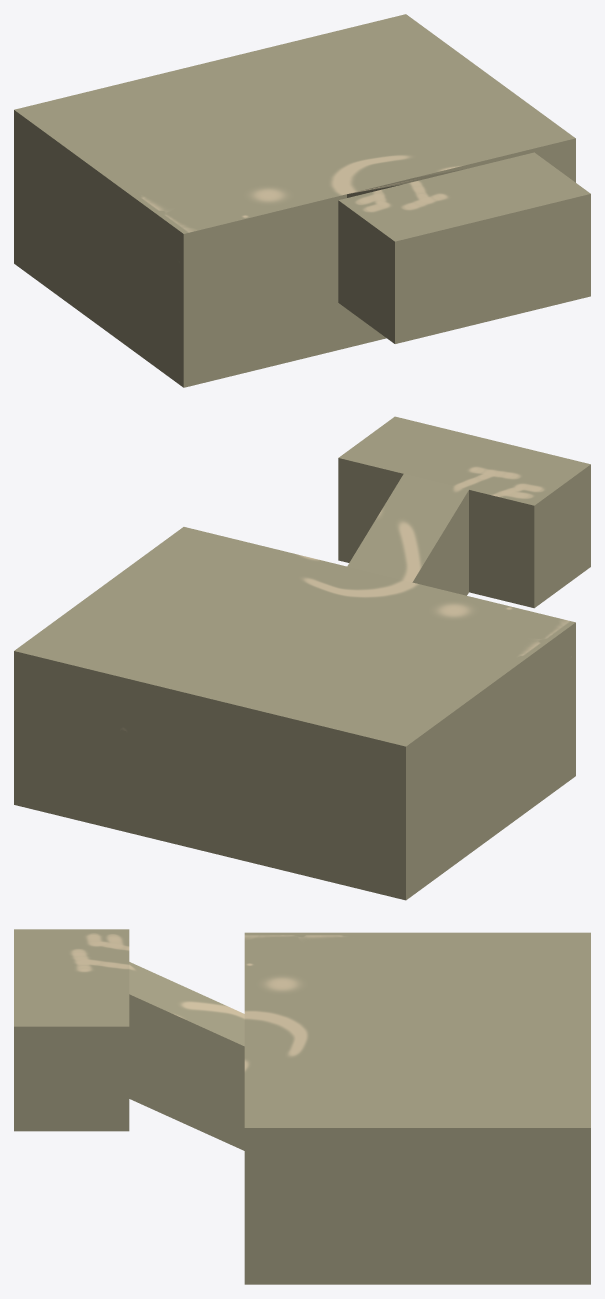
Rendered from temple101.obj.
The picture shows the model from 3 angles, top to bottom: view 1: azimuth 30°, elevation 25°; view 2: azimuth 150°, elevation 25°; view 3: azimuth 270°, elevation 25°; orthographic projection.
Visible parts, largest first — view 1: Bake; view 2: Bake; view 3: Bake.
Boxes of the visible parts, x1,y1,x2,y2 form: Bake: (14, 14, 590, 387); Bake: (14, 416, 590, 900); Bake: (14, 929, 590, 1284).
Bounding box in the file's own units: 8 × 4 × 10.
Materials: 1 (1 with a texture image).
